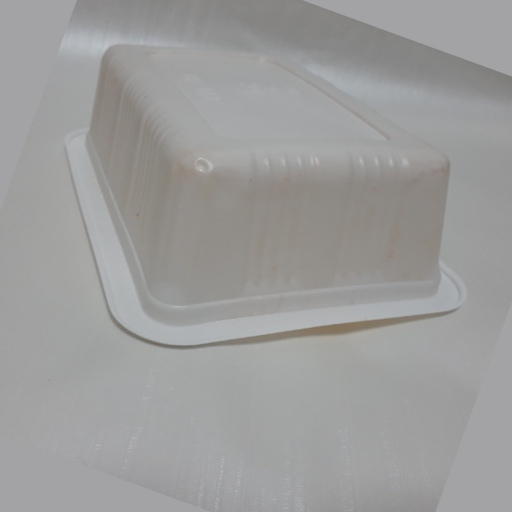Plastic_4: (63, 43, 465, 348)
